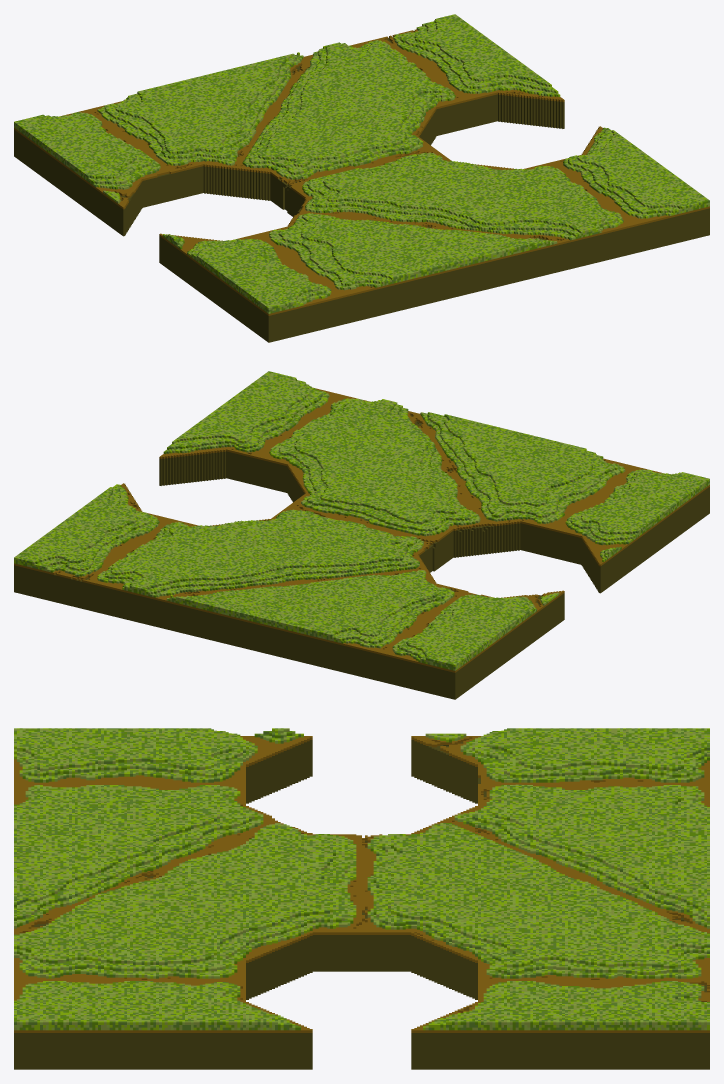
The model's file is Tab C2-0.obj.
3 views of the same model, one above another, from view 1: azimuth 30°, elevation 25°; view 2: azimuth 150°, elevation 25°; view 3: azimuth 270°, elevation 25° (orthographic). The views are drawn at different scales.
Size of the model in its own units: 24 by 1.8 by 24.
1 material, 1 textured.
